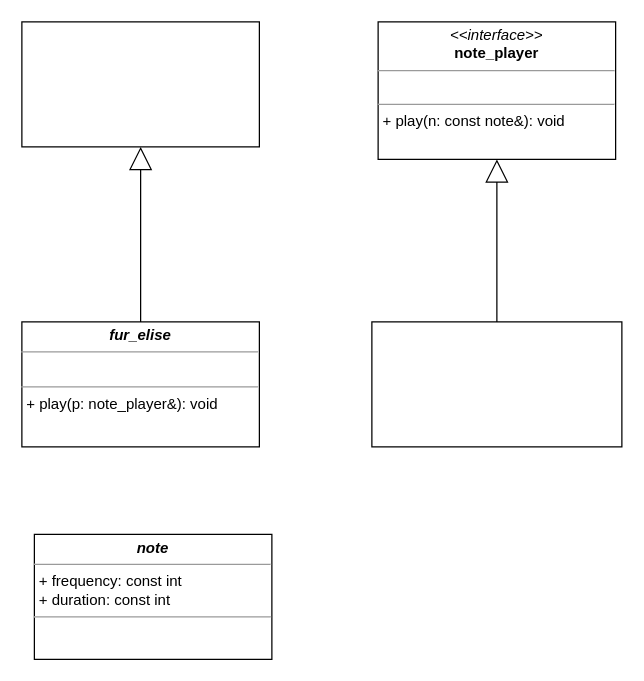
Image size: 644x681. Some labels were removed from this diagram. The shapes that lost their labels are listed below. From the top down, each one's box as (x1, y1, x2, y2) in pixels, then its label:
(21, 21, 259, 147): melody + play(p: note_player&): void
(371, 321, 622, 447): note_player_gpio - lsp: hwlib::pin_out& + play(n: const note&) override: void
